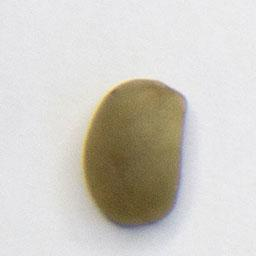premium: (79, 75, 191, 229)
